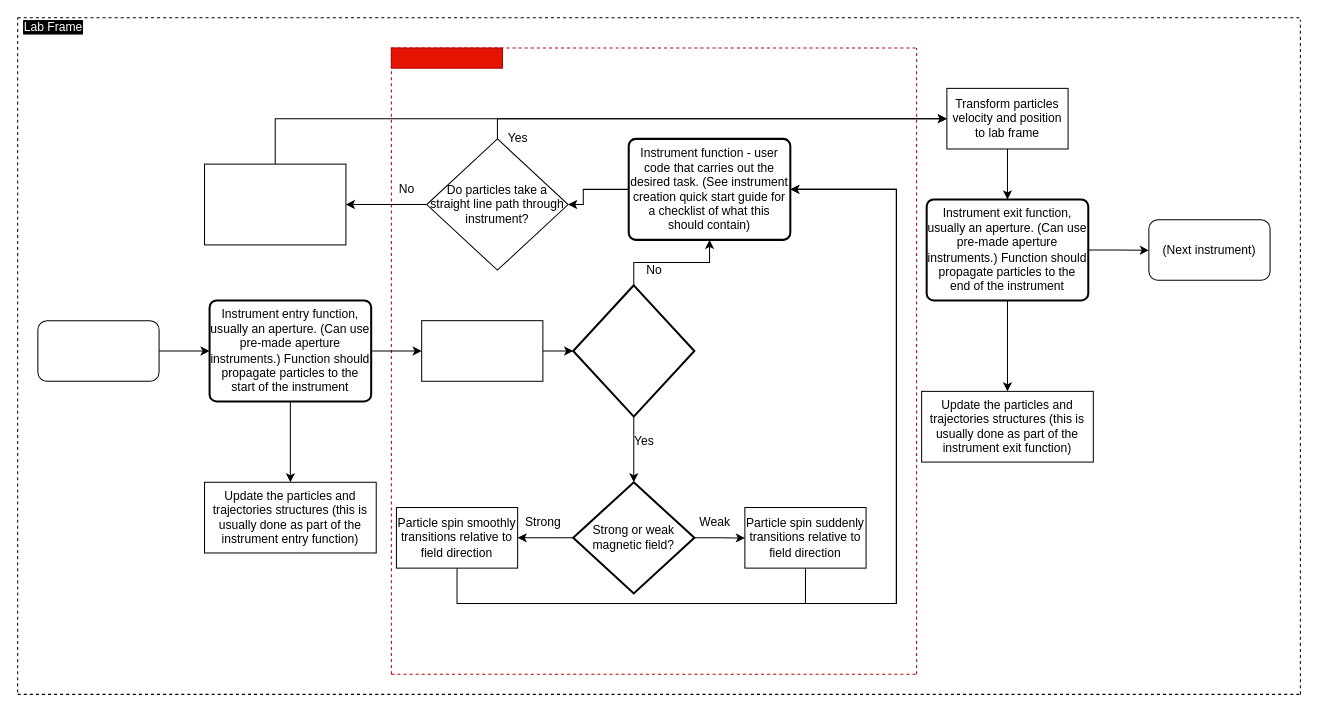
Some shapes in this 1319 by 713 pixel diagram are drawn without their labels. Here are the shapes that lost their labels. From the top down, the box of each, then its label:
(390, 47, 502, 68): Instrument Frame
(204, 163, 346, 245): Update trajectories structure with trajectory defining points in lab frame
(37, 320, 159, 381): (Previous instrument)
(421, 320, 543, 381): Transform particles velocity and position to instrument frame
(572, 284, 695, 417): Non-zero magnetic field?
